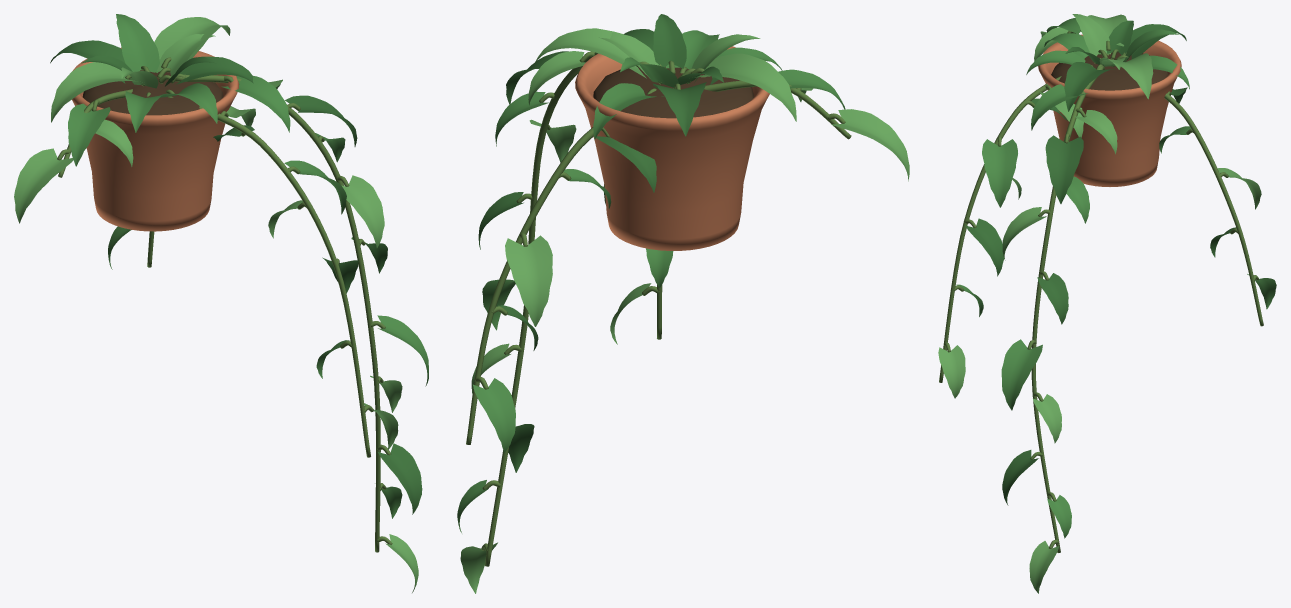
The model's file is pothos.glb.
The picture shows the model from 3 angles, left to right: view 1: azimuth 30°, elevation 25°; view 2: azimuth 150°, elevation 25°; view 3: azimuth 270°, elevation 25°; orthographic projection. The views are drawn at different scales.
Parts seen in each view (by area): view 1: pothos_pot, pothos_leaf_c, pothos_leaf_a, pothos_stem, pothos_leaf_b, pothos_soil; view 2: pothos_pot, pothos_leaf_c, pothos_leaf_a, pothos_stem, pothos_leaf_b, pothos_soil; view 3: pothos_pot, pothos_leaf_a, pothos_leaf_c, pothos_leaf_b, pothos_stem, pothos_soil.
Part boxes in pixels (box(x1,y1,x2,y2)): pothos_pot: box(72, 47, 239, 231); pothos_leaf_c: box(14, 17, 418, 592); pothos_leaf_a: box(68, 14, 428, 518); pothos_stem: box(57, 57, 392, 552); pothos_leaf_b: box(50, 40, 422, 514); pothos_soil: box(82, 70, 223, 115); pothos_pot: box(575, 46, 769, 250); pothos_leaf_c: box(460, 28, 909, 593); pothos_leaf_a: box(457, 30, 845, 532); pothos_stem: box(466, 51, 851, 566); pothos_leaf_b: box(478, 14, 723, 472); pothos_soil: box(593, 67, 753, 118); pothos_pot: box(1038, 34, 1181, 186); pothos_leaf_a: box(956, 18, 1276, 538); pothos_leaf_c: box(938, 14, 1261, 593); pothos_leaf_b: box(965, 20, 1236, 505); pothos_stem: box(939, 30, 1263, 552); pothos_soil: box(1051, 52, 1168, 90).
Bounding box in the file's own units: 0.4489 × 0.6198 × 0.3998.
